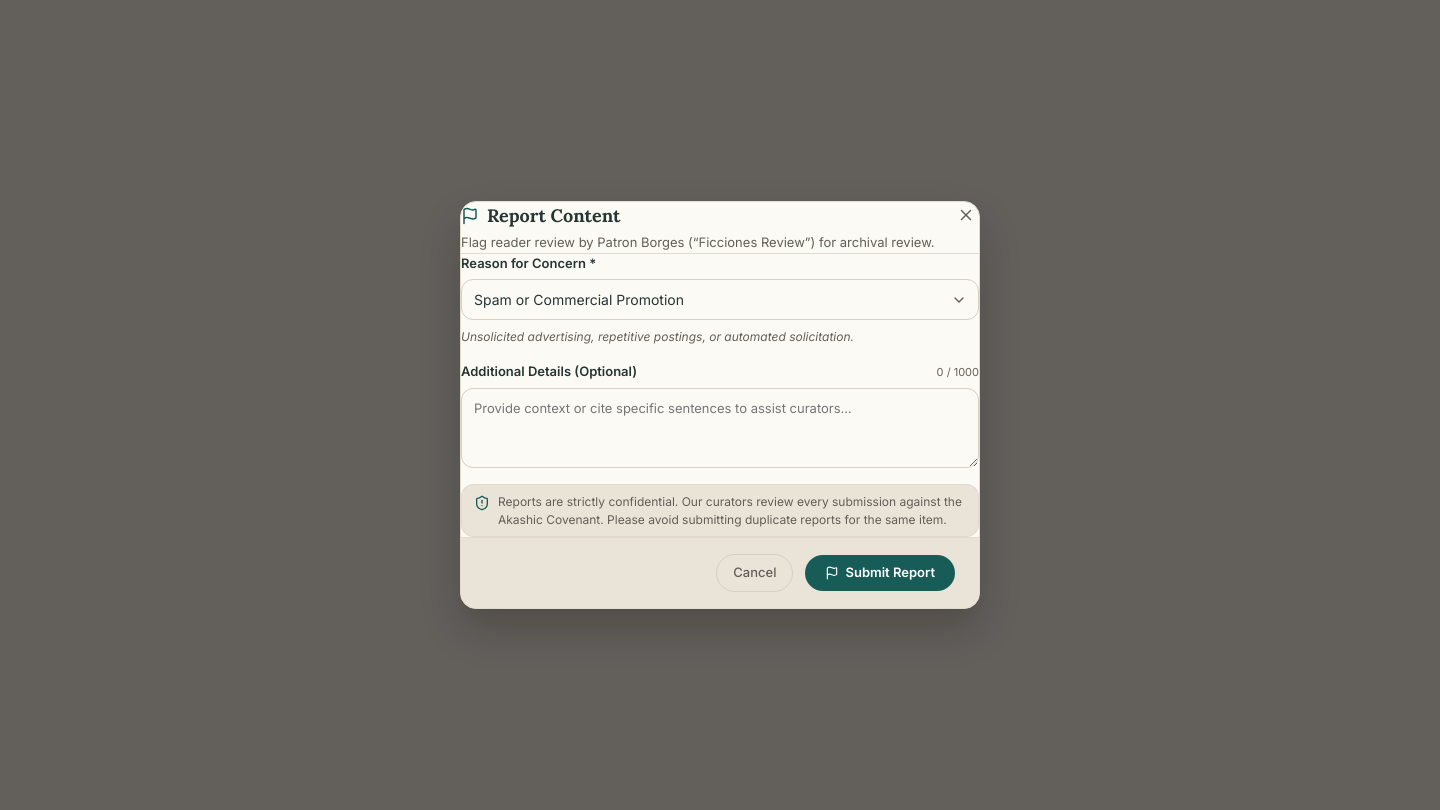
Scenario: ReportContentModal Component › displays backend error message on failure (e.g. duplicate active report)
Click the button with test id "submit-report-btn".
click(880, 573)  # box [806,555,955,591]
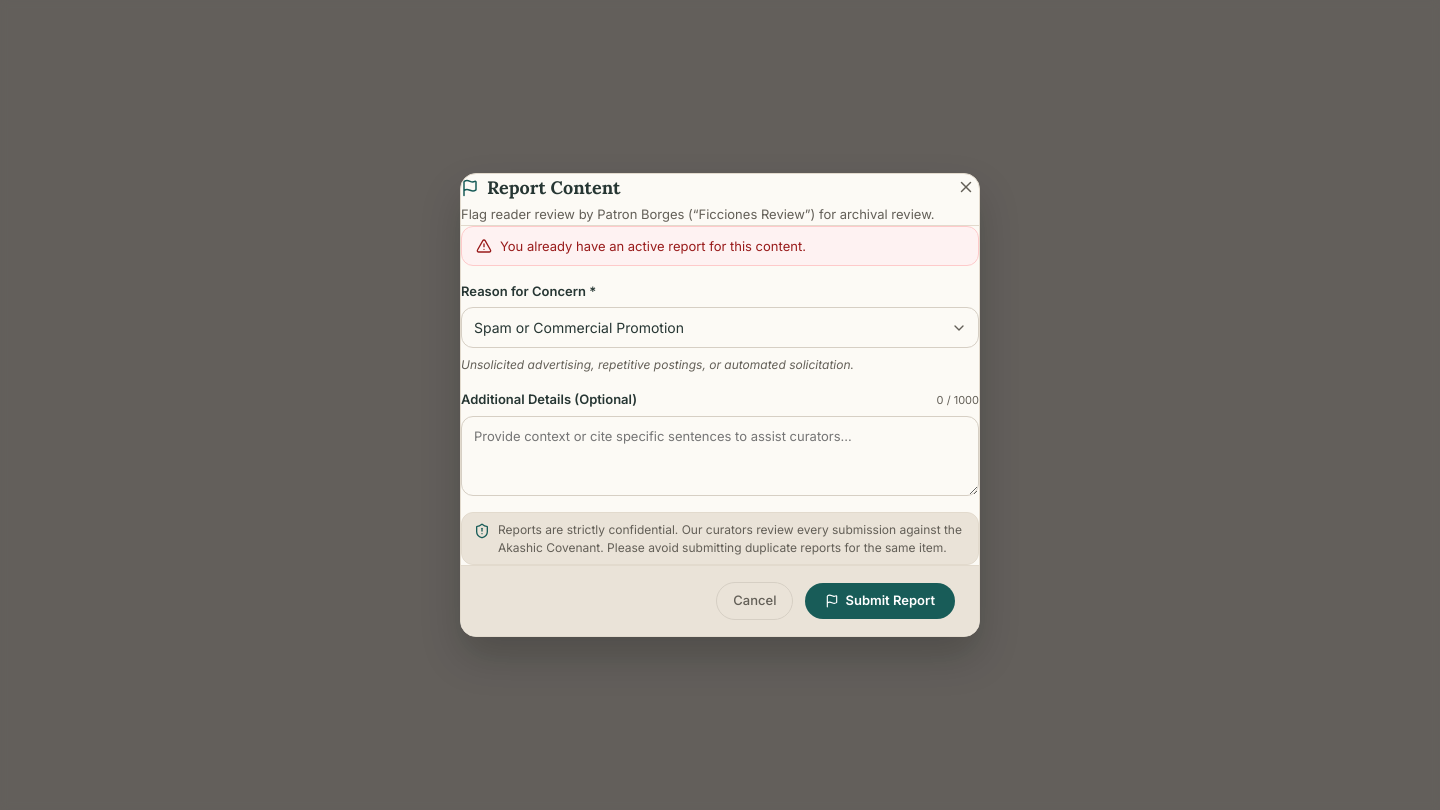
Check: the message "You already have an active report for this content." is shown, box [461,226,979,266]
Check: the text "You already have an active report for this content." is shown, box [500,237,806,255]
